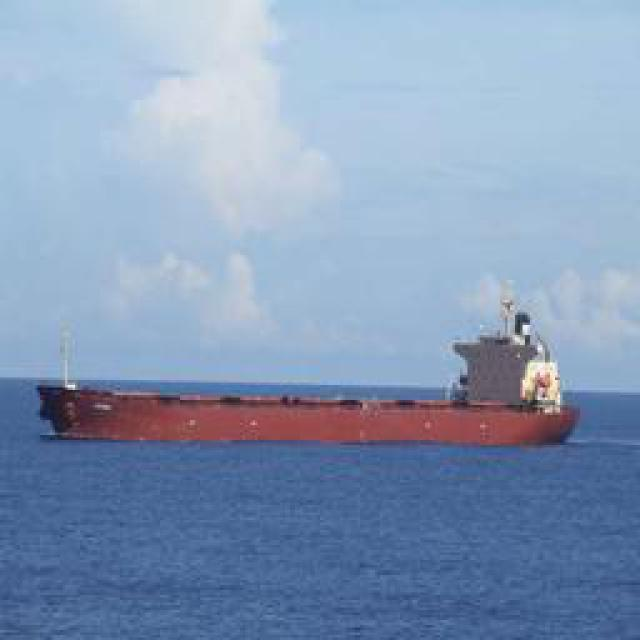Ship: (49, 294, 579, 454)
